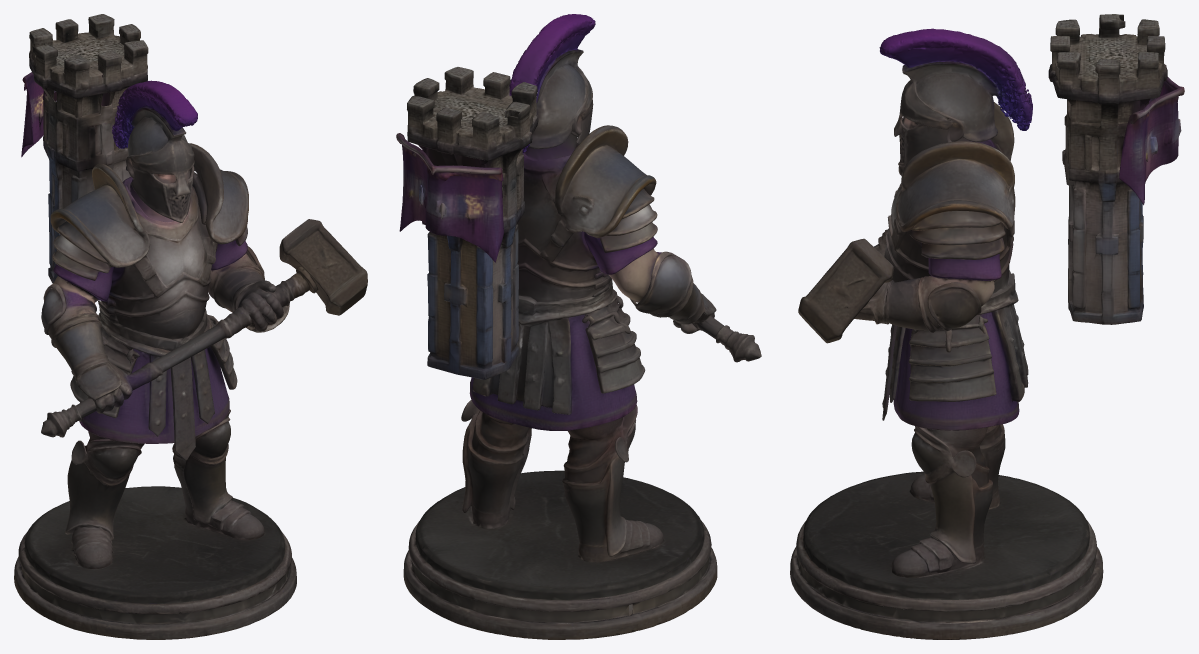
The model's file is dark_rook.glb.
3 views of the same model, side by side, from view 1: azimuth 30°, elevation 25°; view 2: azimuth 150°, elevation 25°; view 3: azimuth 270°, elevation 25° (orthographic). The views are drawn at different scales.
Visible parts, largest first — view 1: geom0; view 2: geom0; view 3: geom0.
Boxes of the visible parts, left/top/right/bottom form: geom0: left=14, top=14, right=367, bottom=639; geom0: left=396, top=14, right=761, bottom=639; geom0: left=790, top=14, right=1184, bottom=639.
Size of the model in its own units: 0.6503 by 0.9997 by 0.6555.
1 material, 1 textured.
